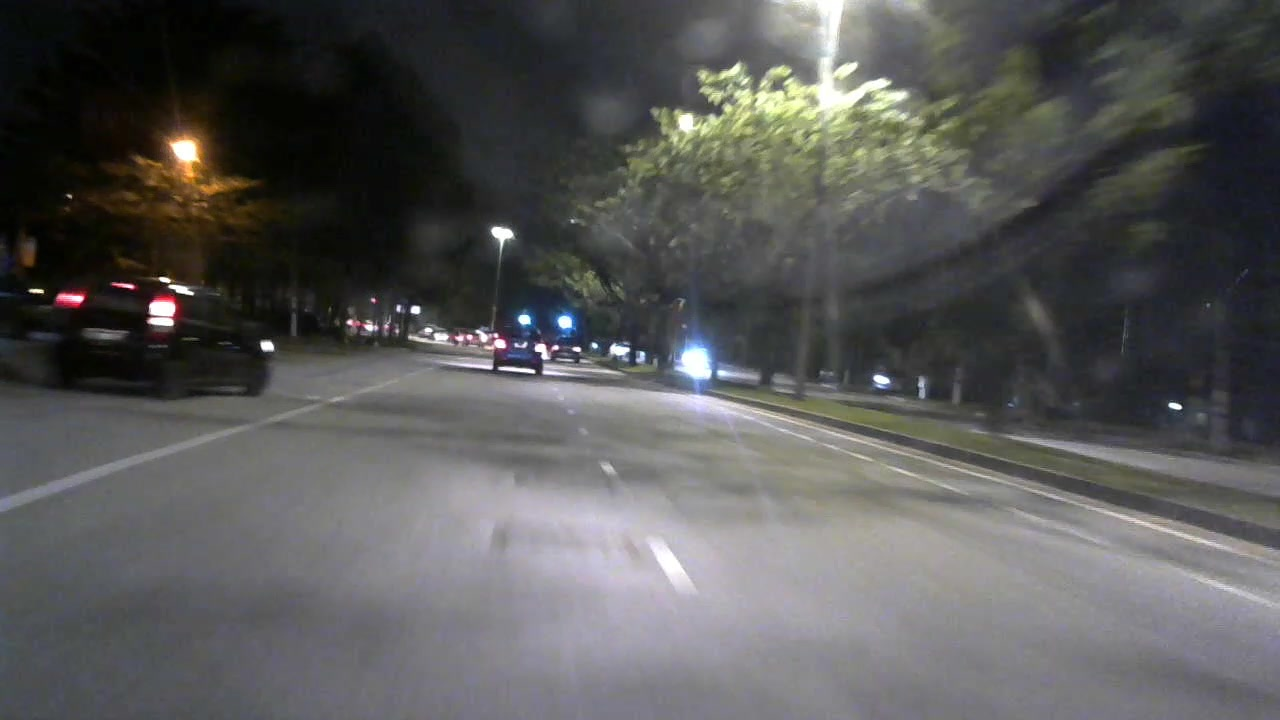Car: (49, 261, 284, 399), (484, 324, 557, 385)
